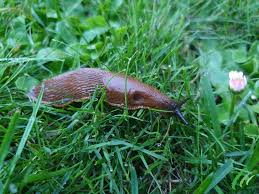slug: (31, 68, 191, 125)
